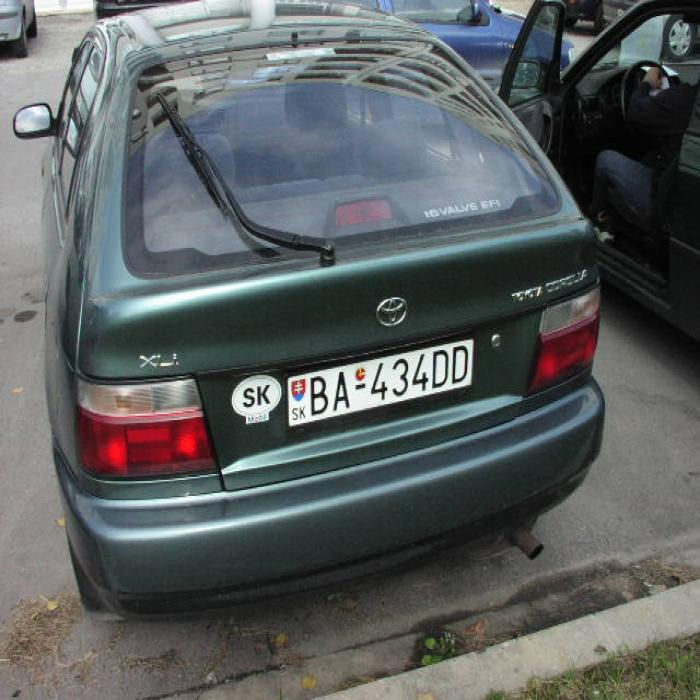number_plate: (289, 341, 471, 426)
